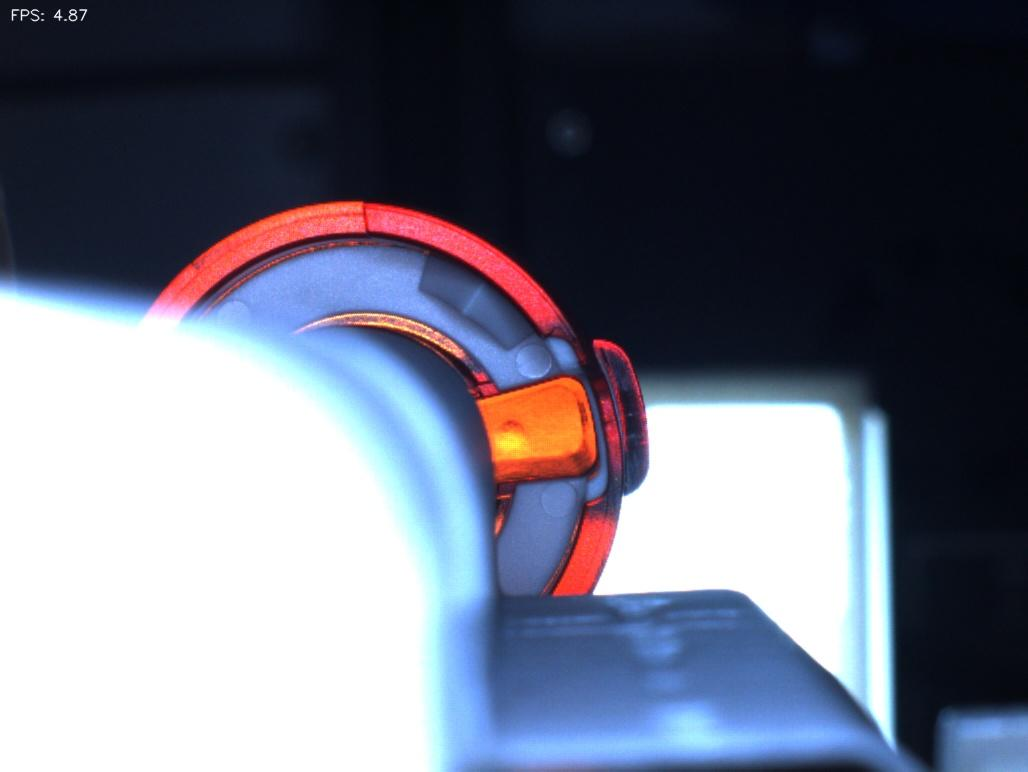Retassure: (478, 398, 549, 470)
